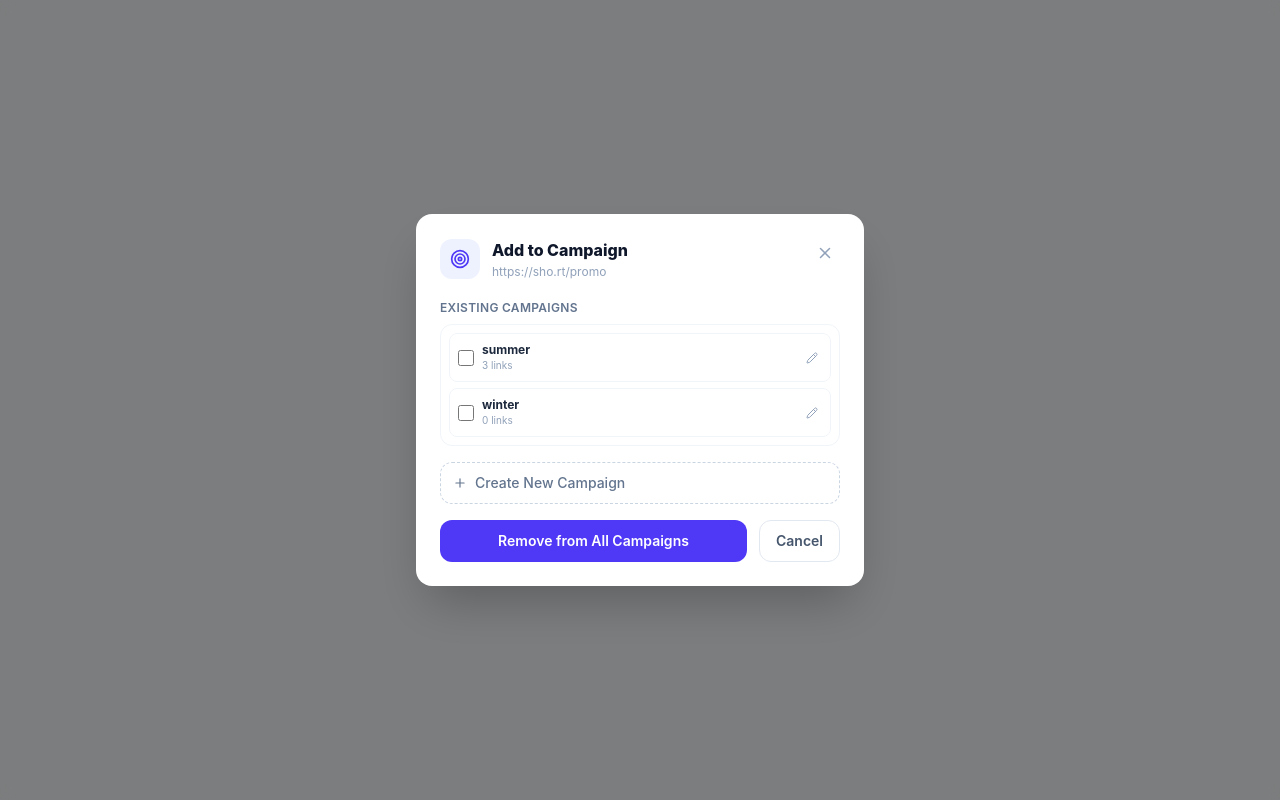
Test: AddToCampaignModal - creating a campaign › adds a brand-new campaign to the list, flags it "New" and selects it
The image size is (1280, 800).
Click the button "Create New Campaign" at [550, 482], box [440, 462, 840, 504]
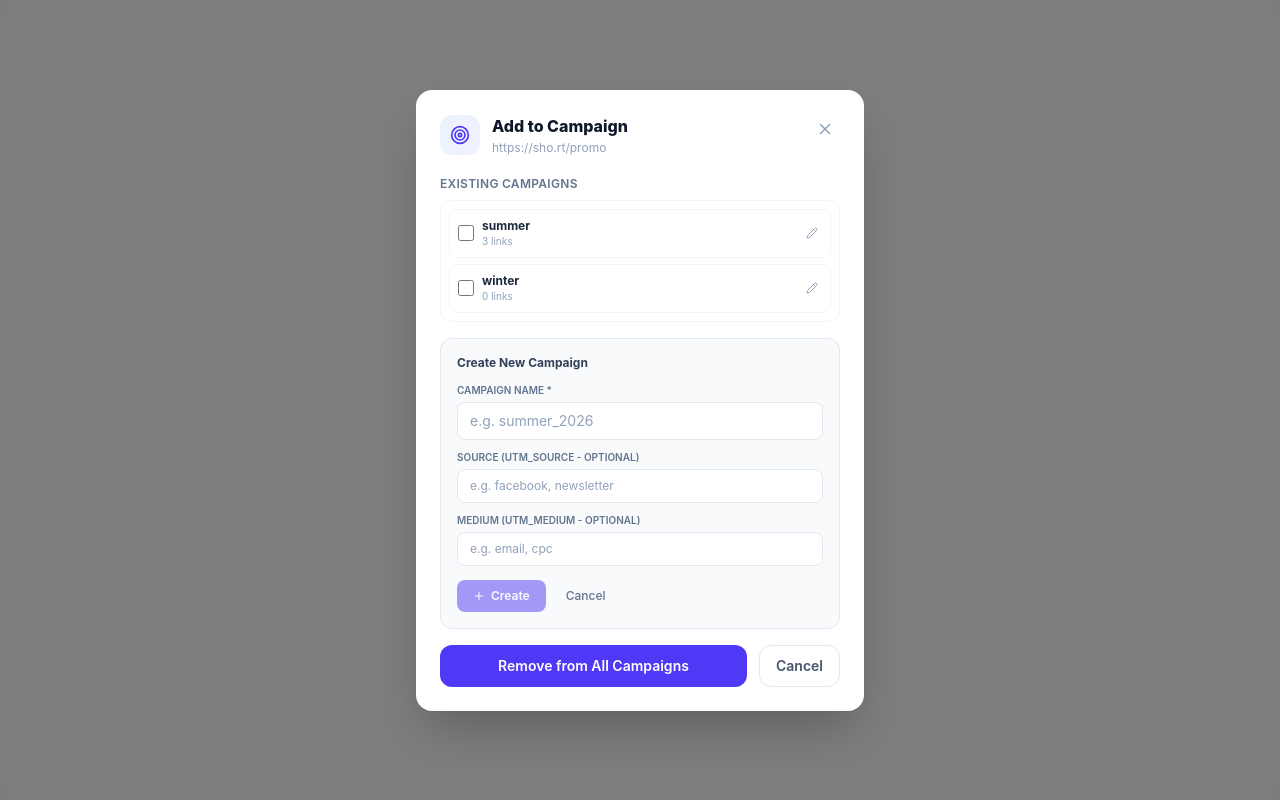
Type "launch" into the field with placeholder "e.g. summer_2026" at [640, 420], box [457, 402, 823, 440]
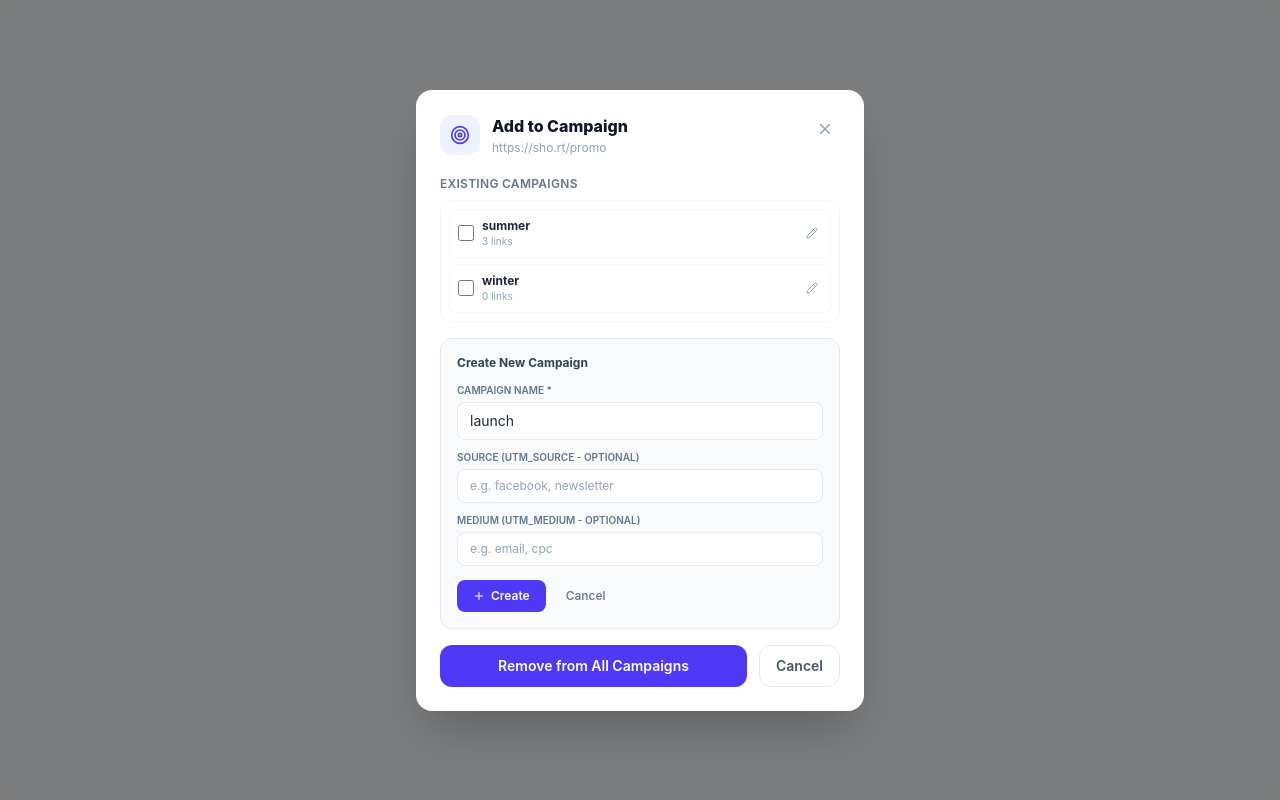
Click the button "Create" at [501, 596], box [457, 580, 546, 612]
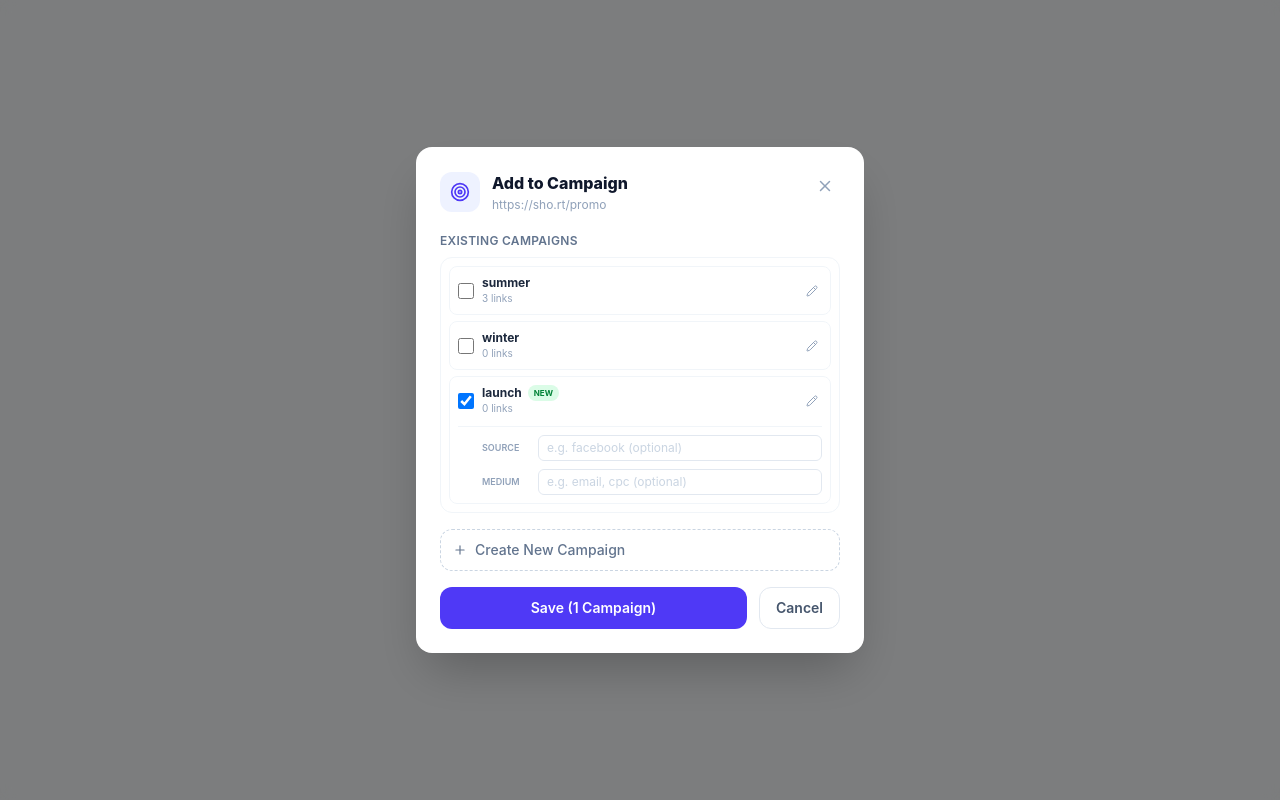
Now the text "launch" is shown, box [482, 385, 522, 401]
Now the text "New" is shown, box [528, 385, 559, 401]
Now the checkbox next to "launch" is checked, box [458, 392, 474, 408]
